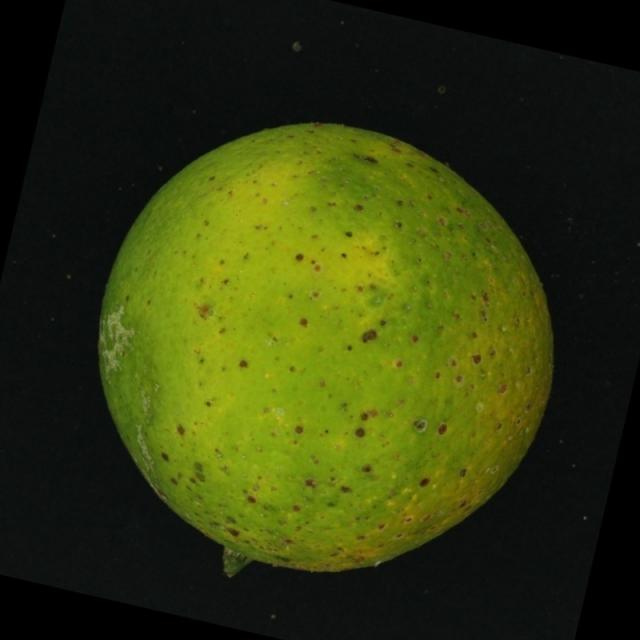grenning: (80, 90, 580, 598)
